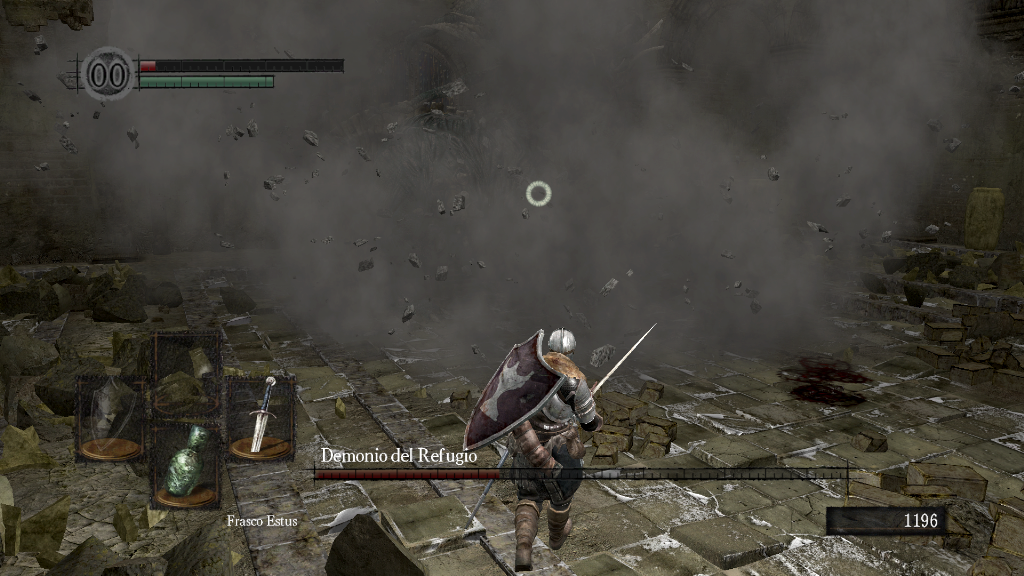bossHP: (314, 469, 847, 479)
health: (138, 58, 343, 71)
humanity: (80, 45, 136, 102)
player: (462, 322, 659, 568)
souls: (825, 506, 945, 536)
stamina: (138, 74, 274, 88)
